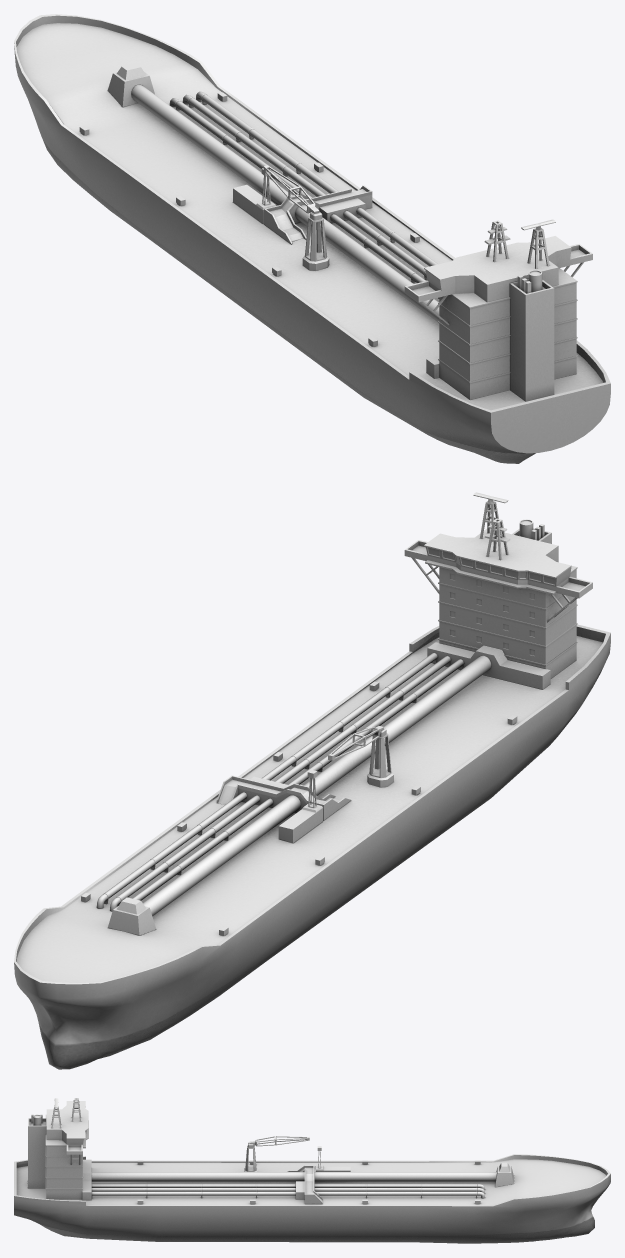
File: tanker-s.glb
3 views of the same model, one above another, from view 1: azimuth 30°, elevation 25°; view 2: azimuth 150°, elevation 25°; view 3: azimuth 270°, elevation 25° (orthographic). The views are drawn at different scales.
Parts seen in each view (by area): view 1: TankerSmall_LOD0; view 2: TankerSmall_LOD0; view 3: TankerSmall_LOD0.
Boxes of the visible parts, box(x1,y1,x2,y2) form: TankerSmall_LOD0: box(14, 14, 610, 463); TankerSmall_LOD0: box(14, 492, 610, 1069); TankerSmall_LOD0: box(14, 1098, 610, 1243).
Bounding box in the file's own units: 2.93 × 3.85 × 14.86.
1 material, 1 textured.
